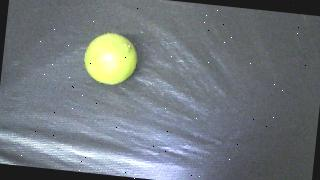LOCAL: (81, 31, 139, 88)
